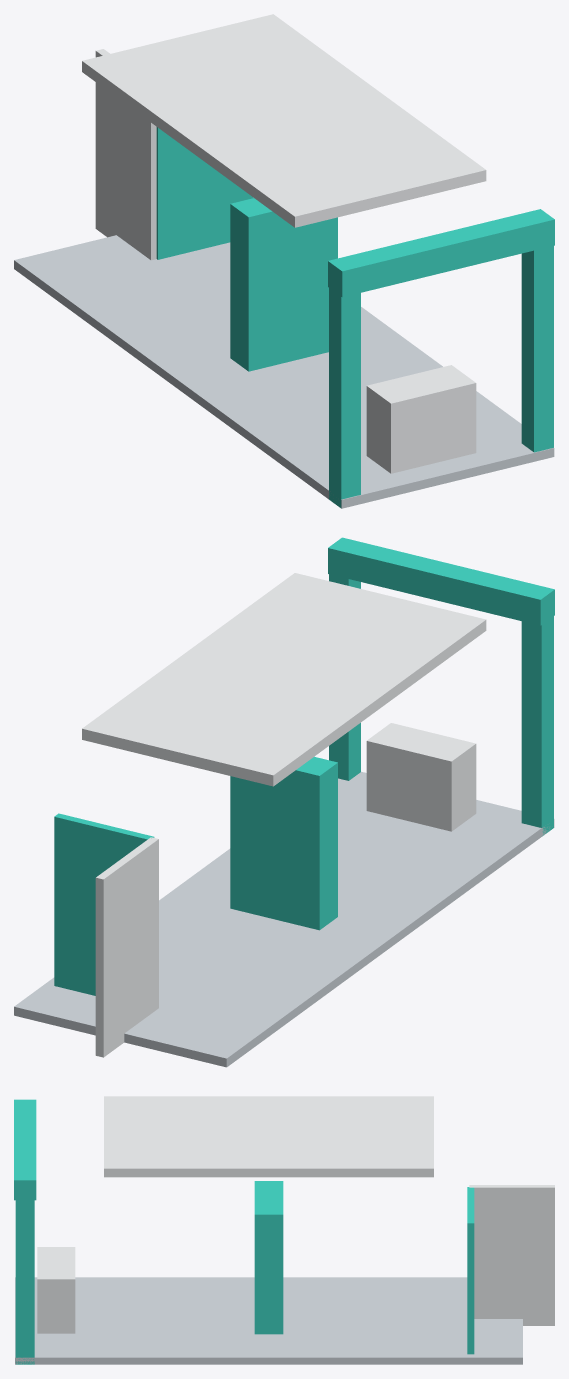
3 views of the same model, one above another, from view 1: azimuth 30°, elevation 25°; view 2: azimuth 150°, elevation 25°; view 3: azimuth 270°, elevation 25° (orthographic). The views are drawn at different scales.
Parts seen in each view (by area): view 1: Exhibition Booth Concept; view 2: Exhibition Booth Concept; view 3: Exhibition Booth Concept.
Boxes of the visible parts, x1,y1,x2,y2 form: Exhibition Booth Concept: (14,14,554,508); Exhibition Booth Concept: (14,537,554,1067); Exhibition Booth Concept: (14,1096,554,1364).
Size of the model in its own units: 3 by 3.34 by 8.52.
